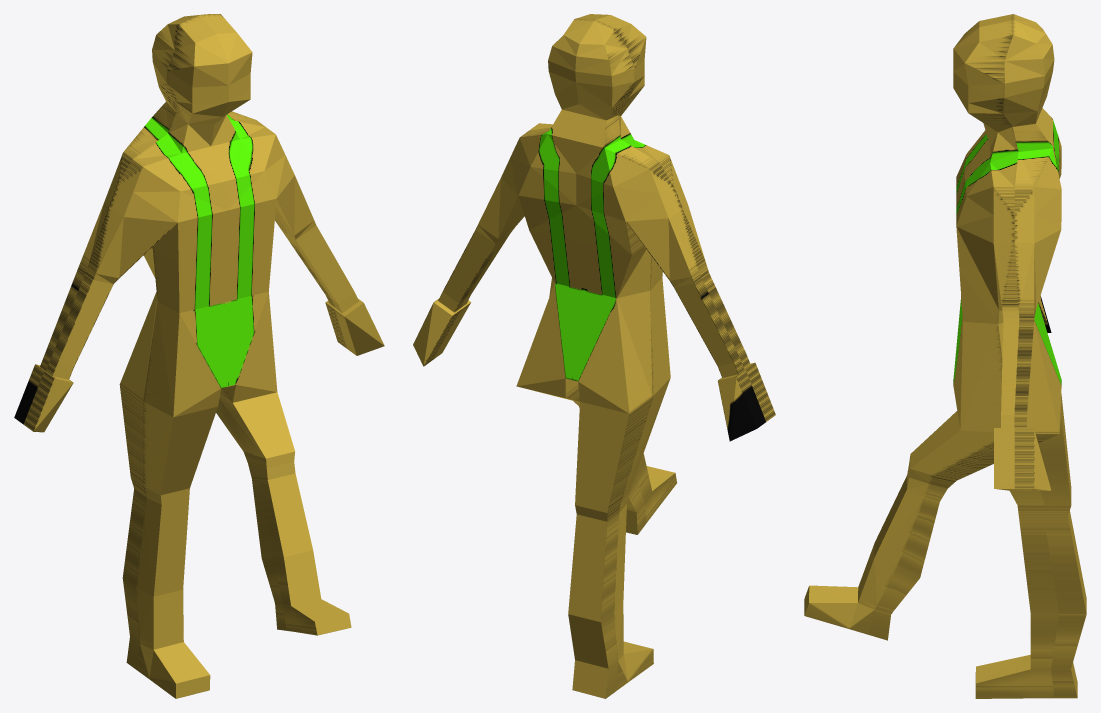
3 renders of one model, left to right at view 1: azimuth 30°, elevation 25°; view 2: azimuth 150°, elevation 25°; view 3: azimuth 270°, elevation 25°, orthographic. The views are drawn at different scales.
Visible parts, largest first — view 1: Borat; view 2: Borat; view 3: Borat.
Part boxes in pixels (x1,y1,x2,y2): Borat: (14,14,384,698); Borat: (413,14,775,698); Borat: (804,14,1086,698).
Bounding box in the file's own units: 1.79 × 3.21 × 1.2.
